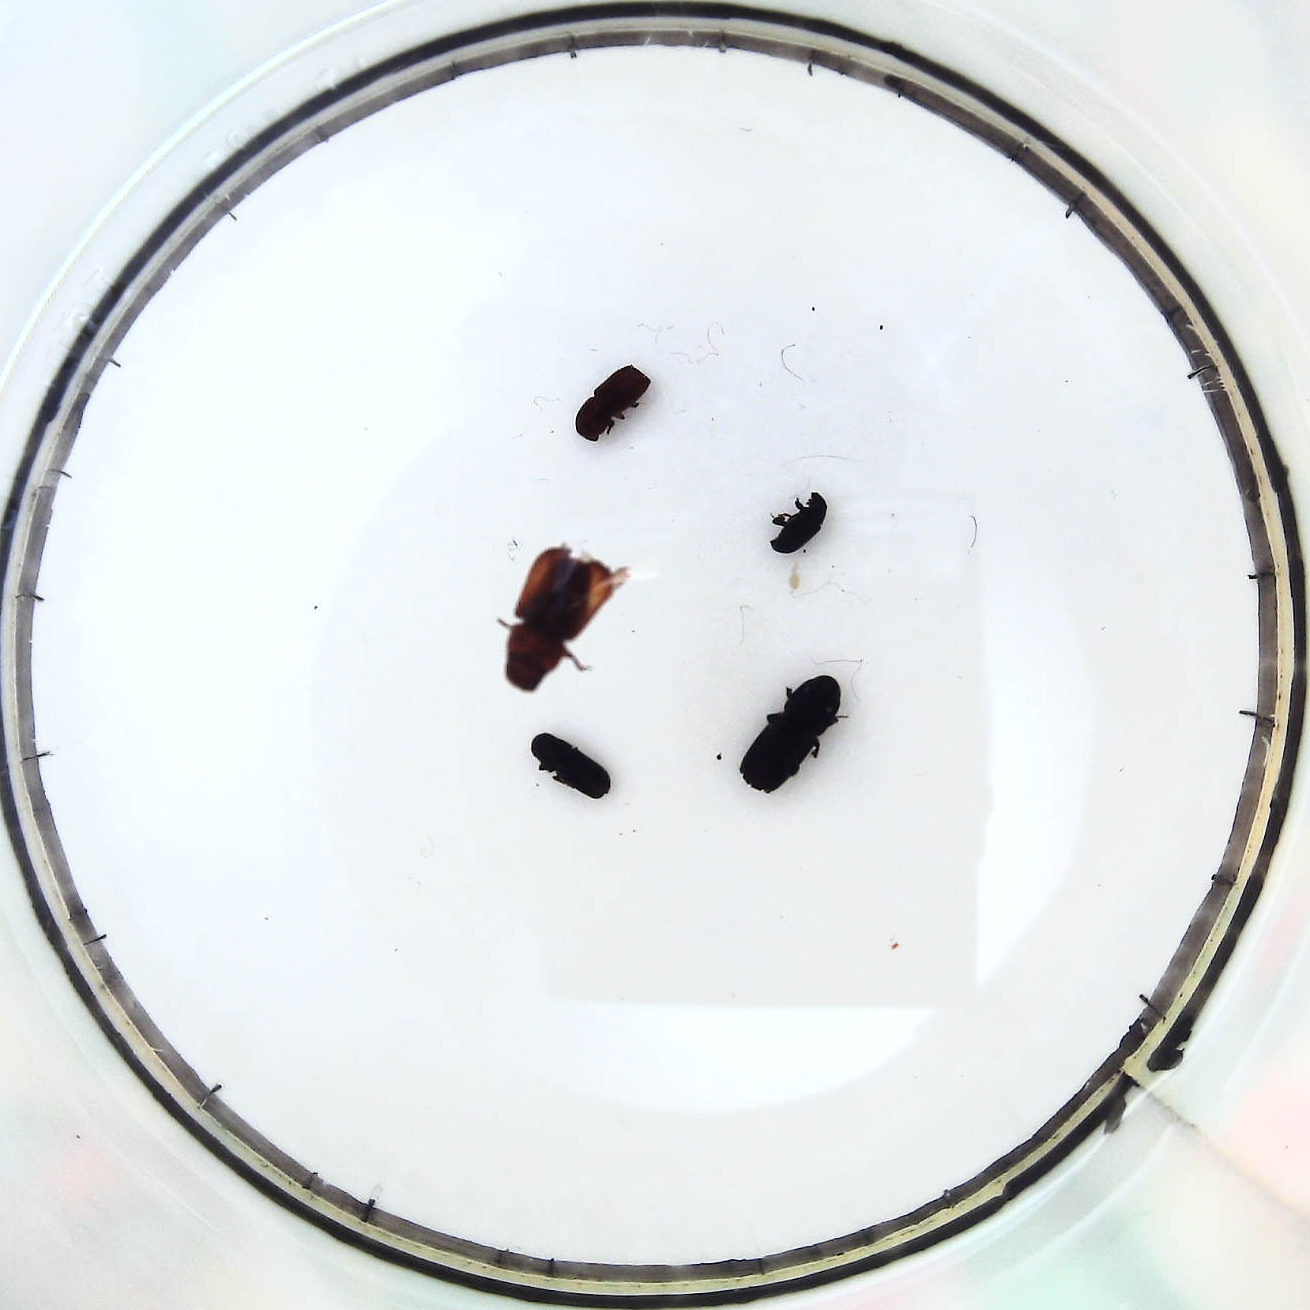Boerner: (740, 674, 841, 797)
Leconte: (501, 548, 615, 687)
Linnaeus: (577, 362, 650, 444)
armandi: (528, 734, 613, 804)
coleoptera: (771, 495, 828, 551)
